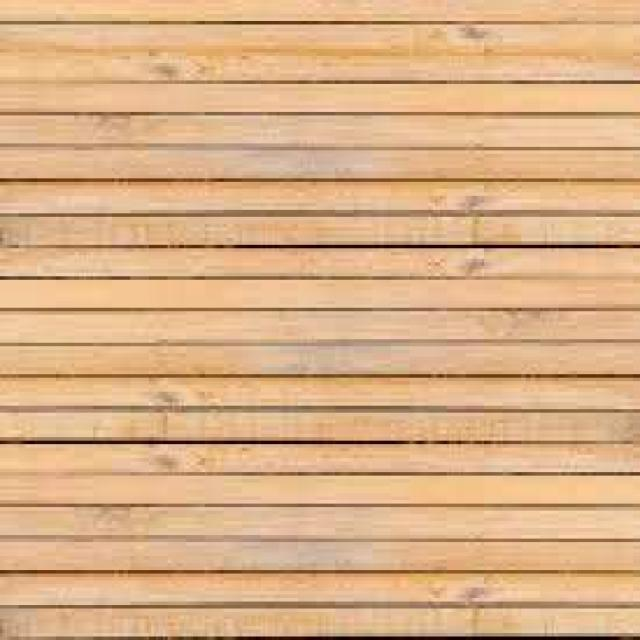perfect-wooden-plate: (0, 4, 640, 634)
